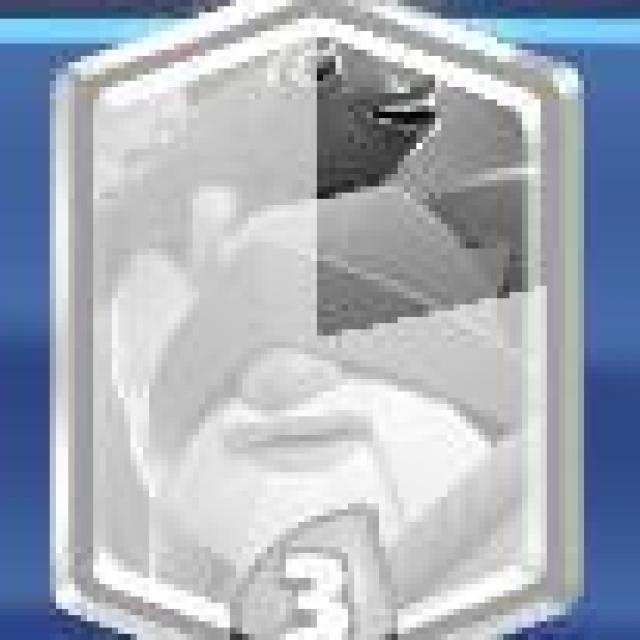Fisherman: (51, 1, 577, 640)
